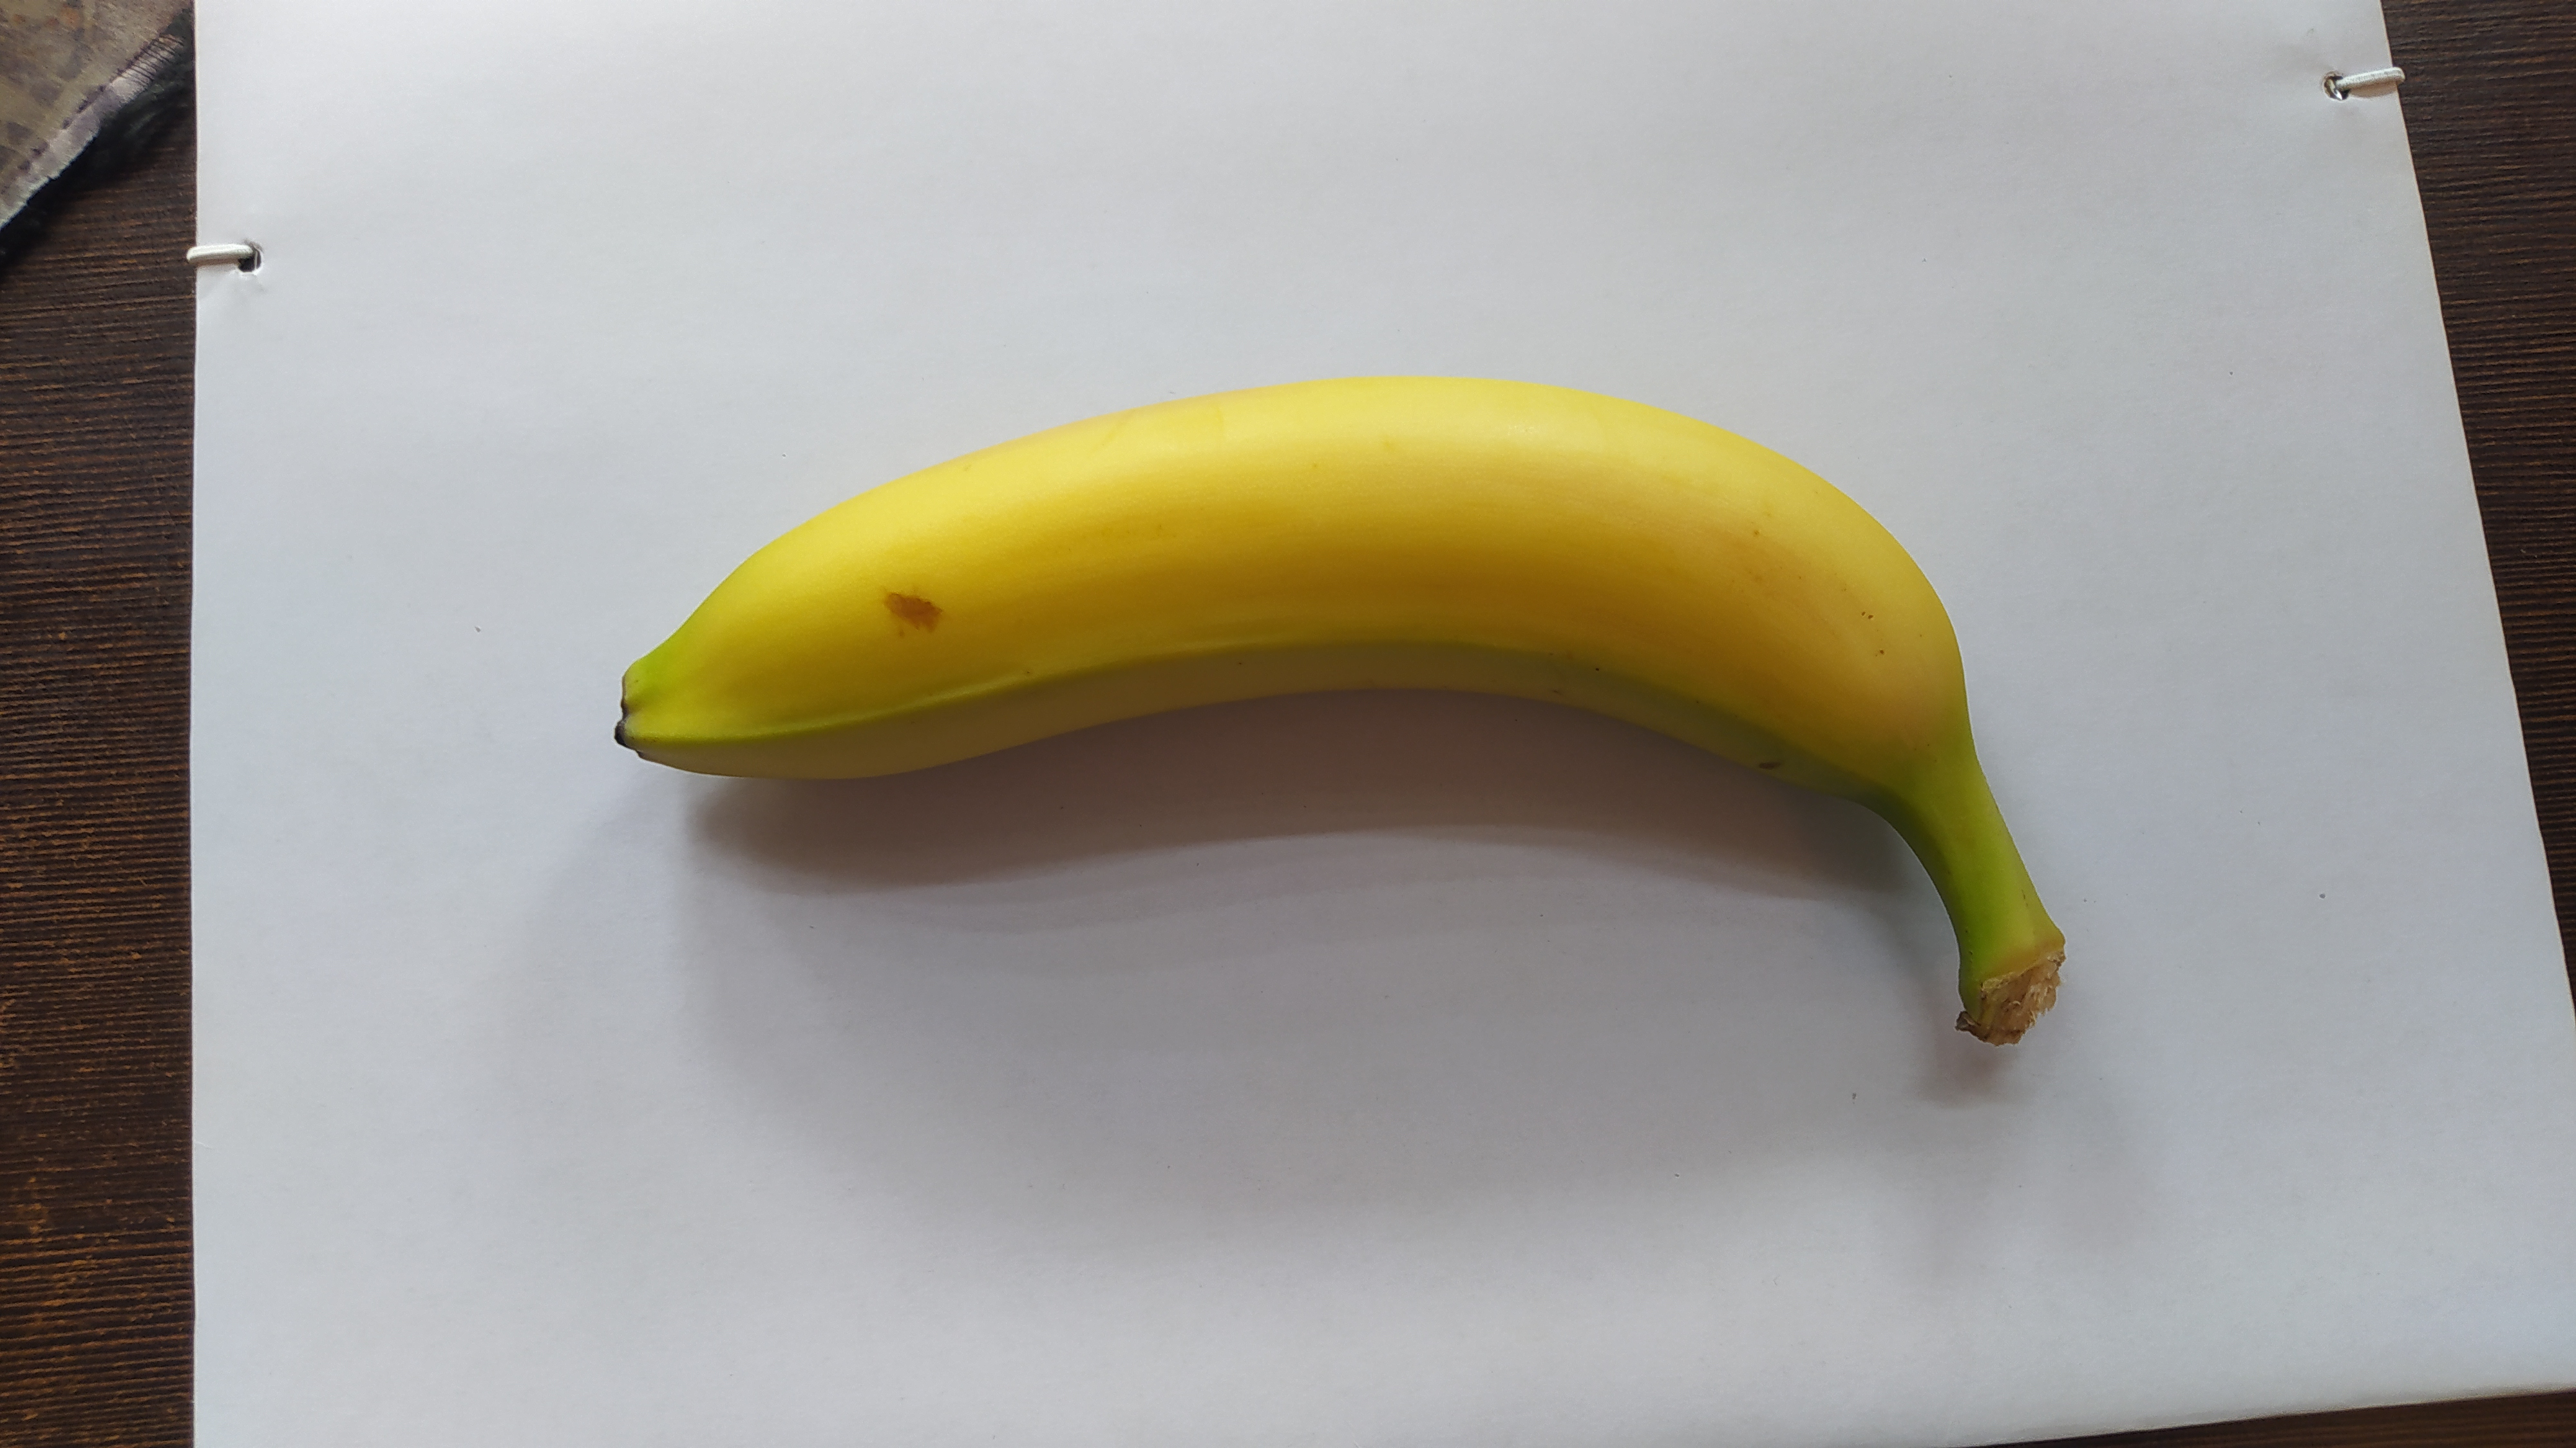banana: (610, 374, 2068, 1044)
